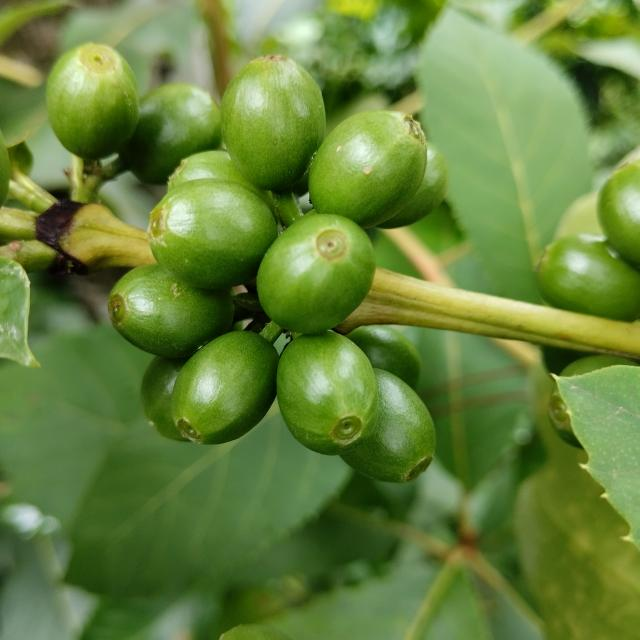green: (147, 178, 277, 289), (220, 55, 326, 191), (257, 214, 376, 334), (309, 110, 427, 228), (277, 331, 379, 456), (170, 331, 279, 445), (107, 264, 234, 358), (45, 42, 139, 159), (341, 369, 436, 483), (120, 82, 221, 184), (537, 233, 640, 322), (167, 150, 275, 214), (377, 143, 450, 228), (346, 325, 421, 390), (599, 159, 640, 268), (140, 357, 189, 442), (549, 388, 584, 449), (561, 355, 639, 377)
